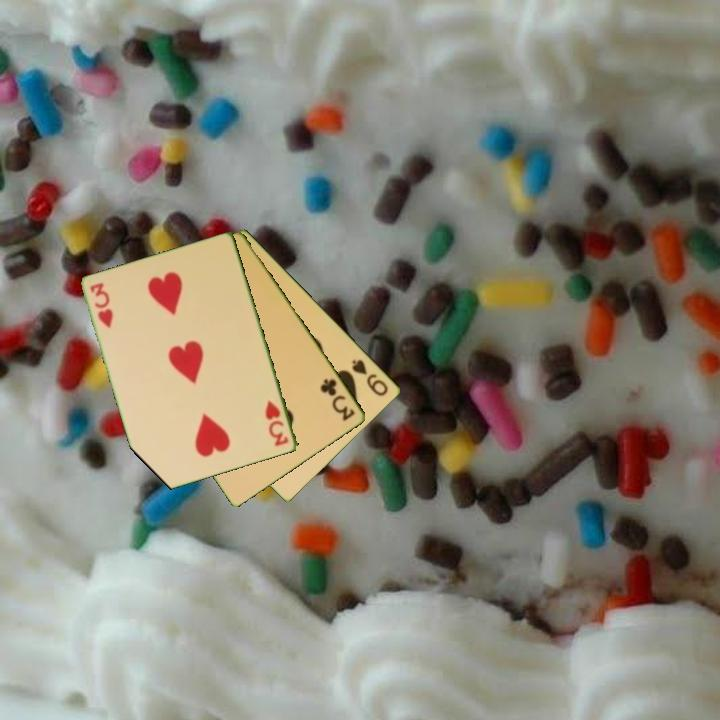3c: (317, 375, 358, 424)
3h: (262, 397, 292, 449), (87, 279, 116, 331)
9s: (349, 356, 392, 399)
